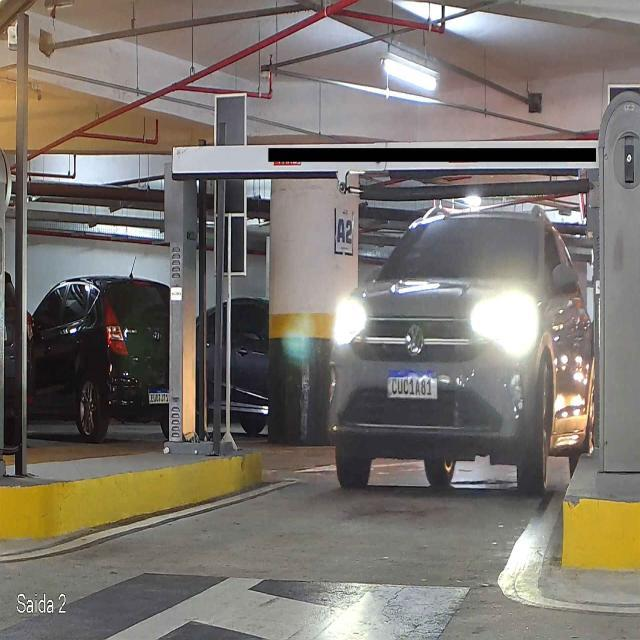mercosul_plate: (384, 367, 440, 401)
